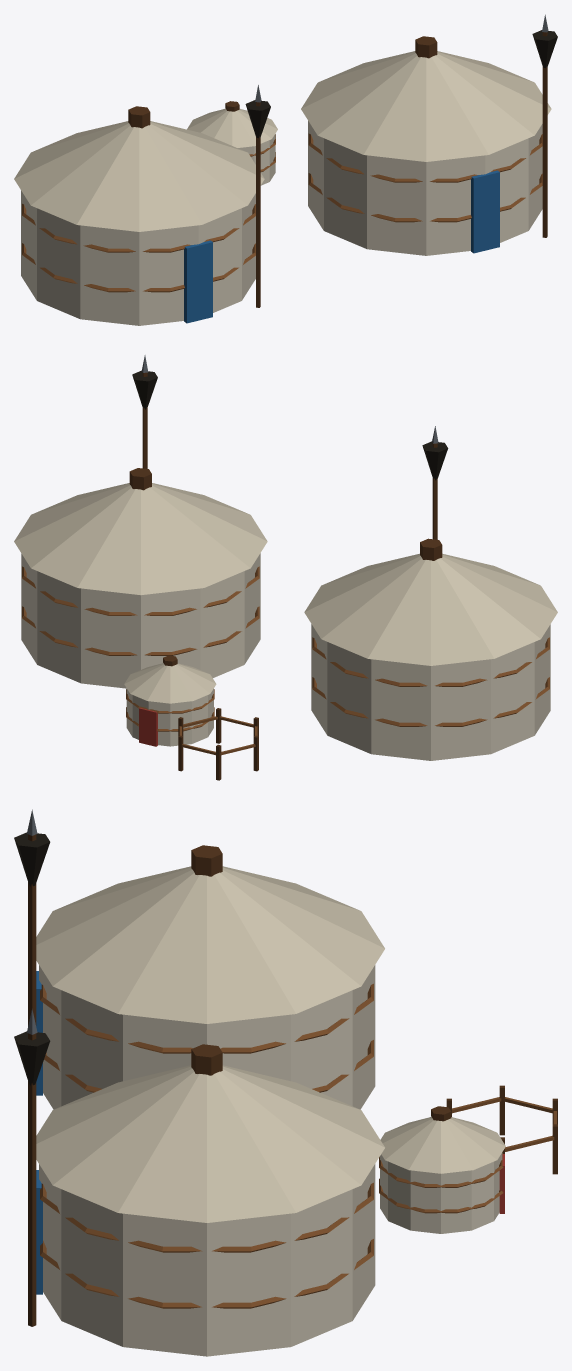
The model's file is orc_row.glb.
The picture shows the model from 3 angles, top to bottom: view 1: azimuth 30°, elevation 25°; view 2: azimuth 150°, elevation 25°; view 3: azimuth 270°, elevation 25°; orthographic projection. The views are drawn at different scales.
Visible parts, largest first — view 1: orc_row; view 2: orc_row; view 3: orc_row.
Boxes of the visible parts, x1=… form: orc_row: x1=14, y1=14, x2=557, y2=325; orc_row: x1=14, y1=355, x2=557, y2=780; orc_row: x1=14, y1=809, x2=557, y2=1356.
Size of the model in its own units: 6.15 by 2.6 by 4.04.
